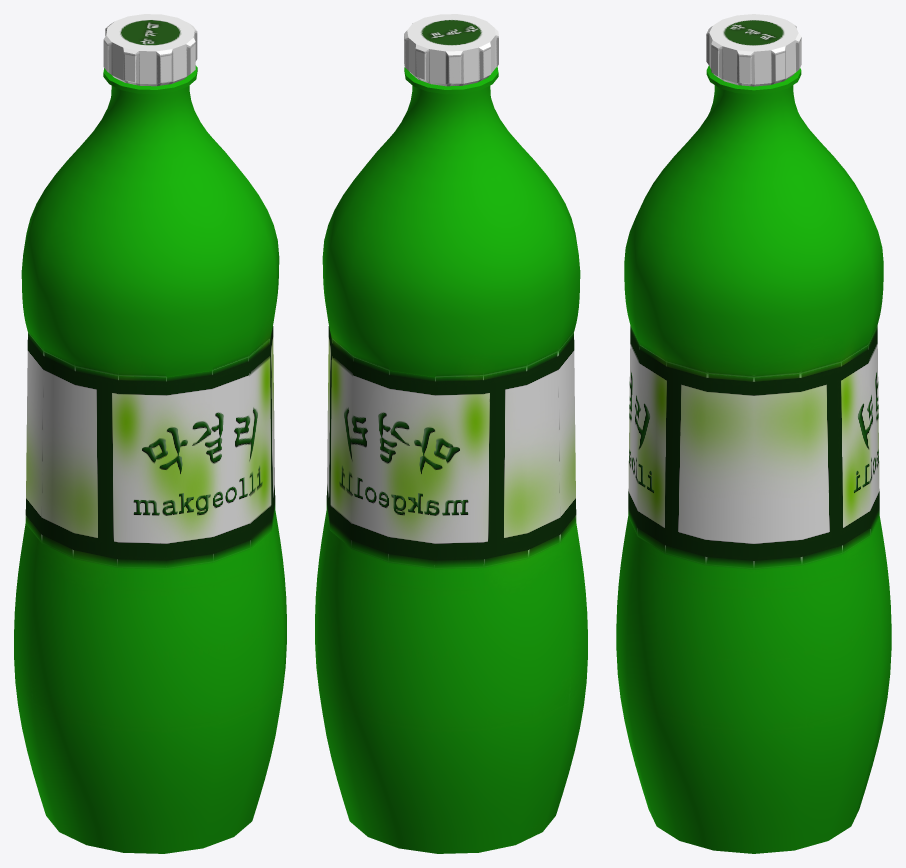
File: makgulri.fbx
3 views of the same model, side by side, from view 1: azimuth 30°, elevation 25°; view 2: azimuth 150°, elevation 25°; view 3: azimuth 270°, elevation 25° (orthographic).
Visible parts, largest first — view 1: body, cap; view 2: body, cap; view 3: body, cap.
Part boxes in pixels (x1,y1,x2,y2): body: [14, 65, 286, 853]; cap: [103, 14, 197, 86]; body: [315, 66, 587, 853]; cap: [404, 14, 498, 86]; body: [616, 65, 891, 853]; cap: [706, 14, 801, 86].
Size of the model in its own units: 79.53 by 248 by 79.53.
Materials: 2 (2 with a texture image).
